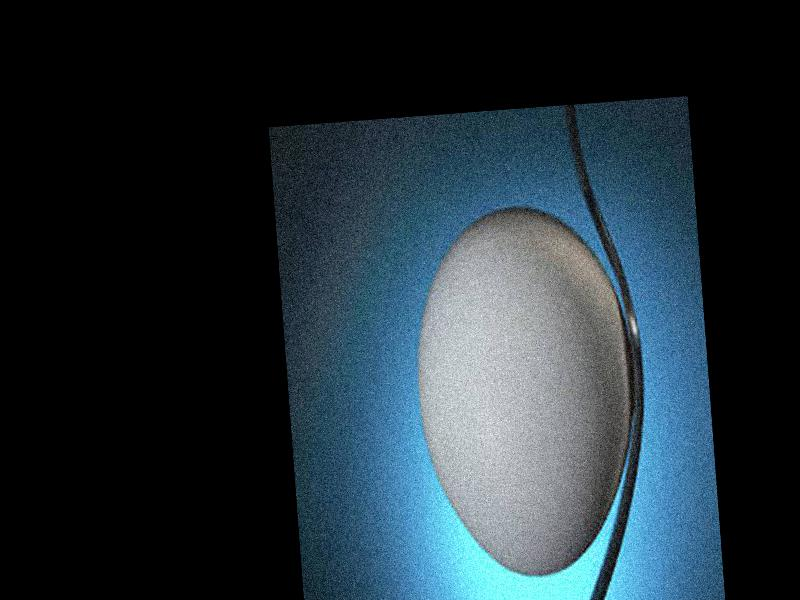Eggs: (408, 200, 644, 583)
